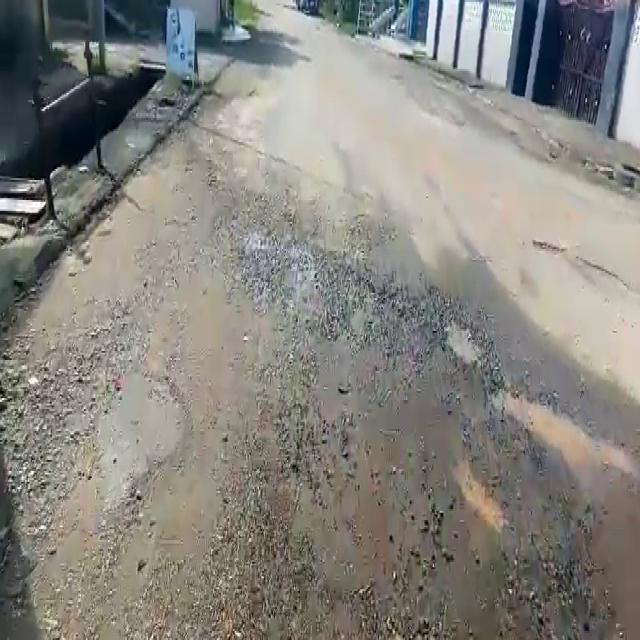pothole: (444, 314, 483, 366)
